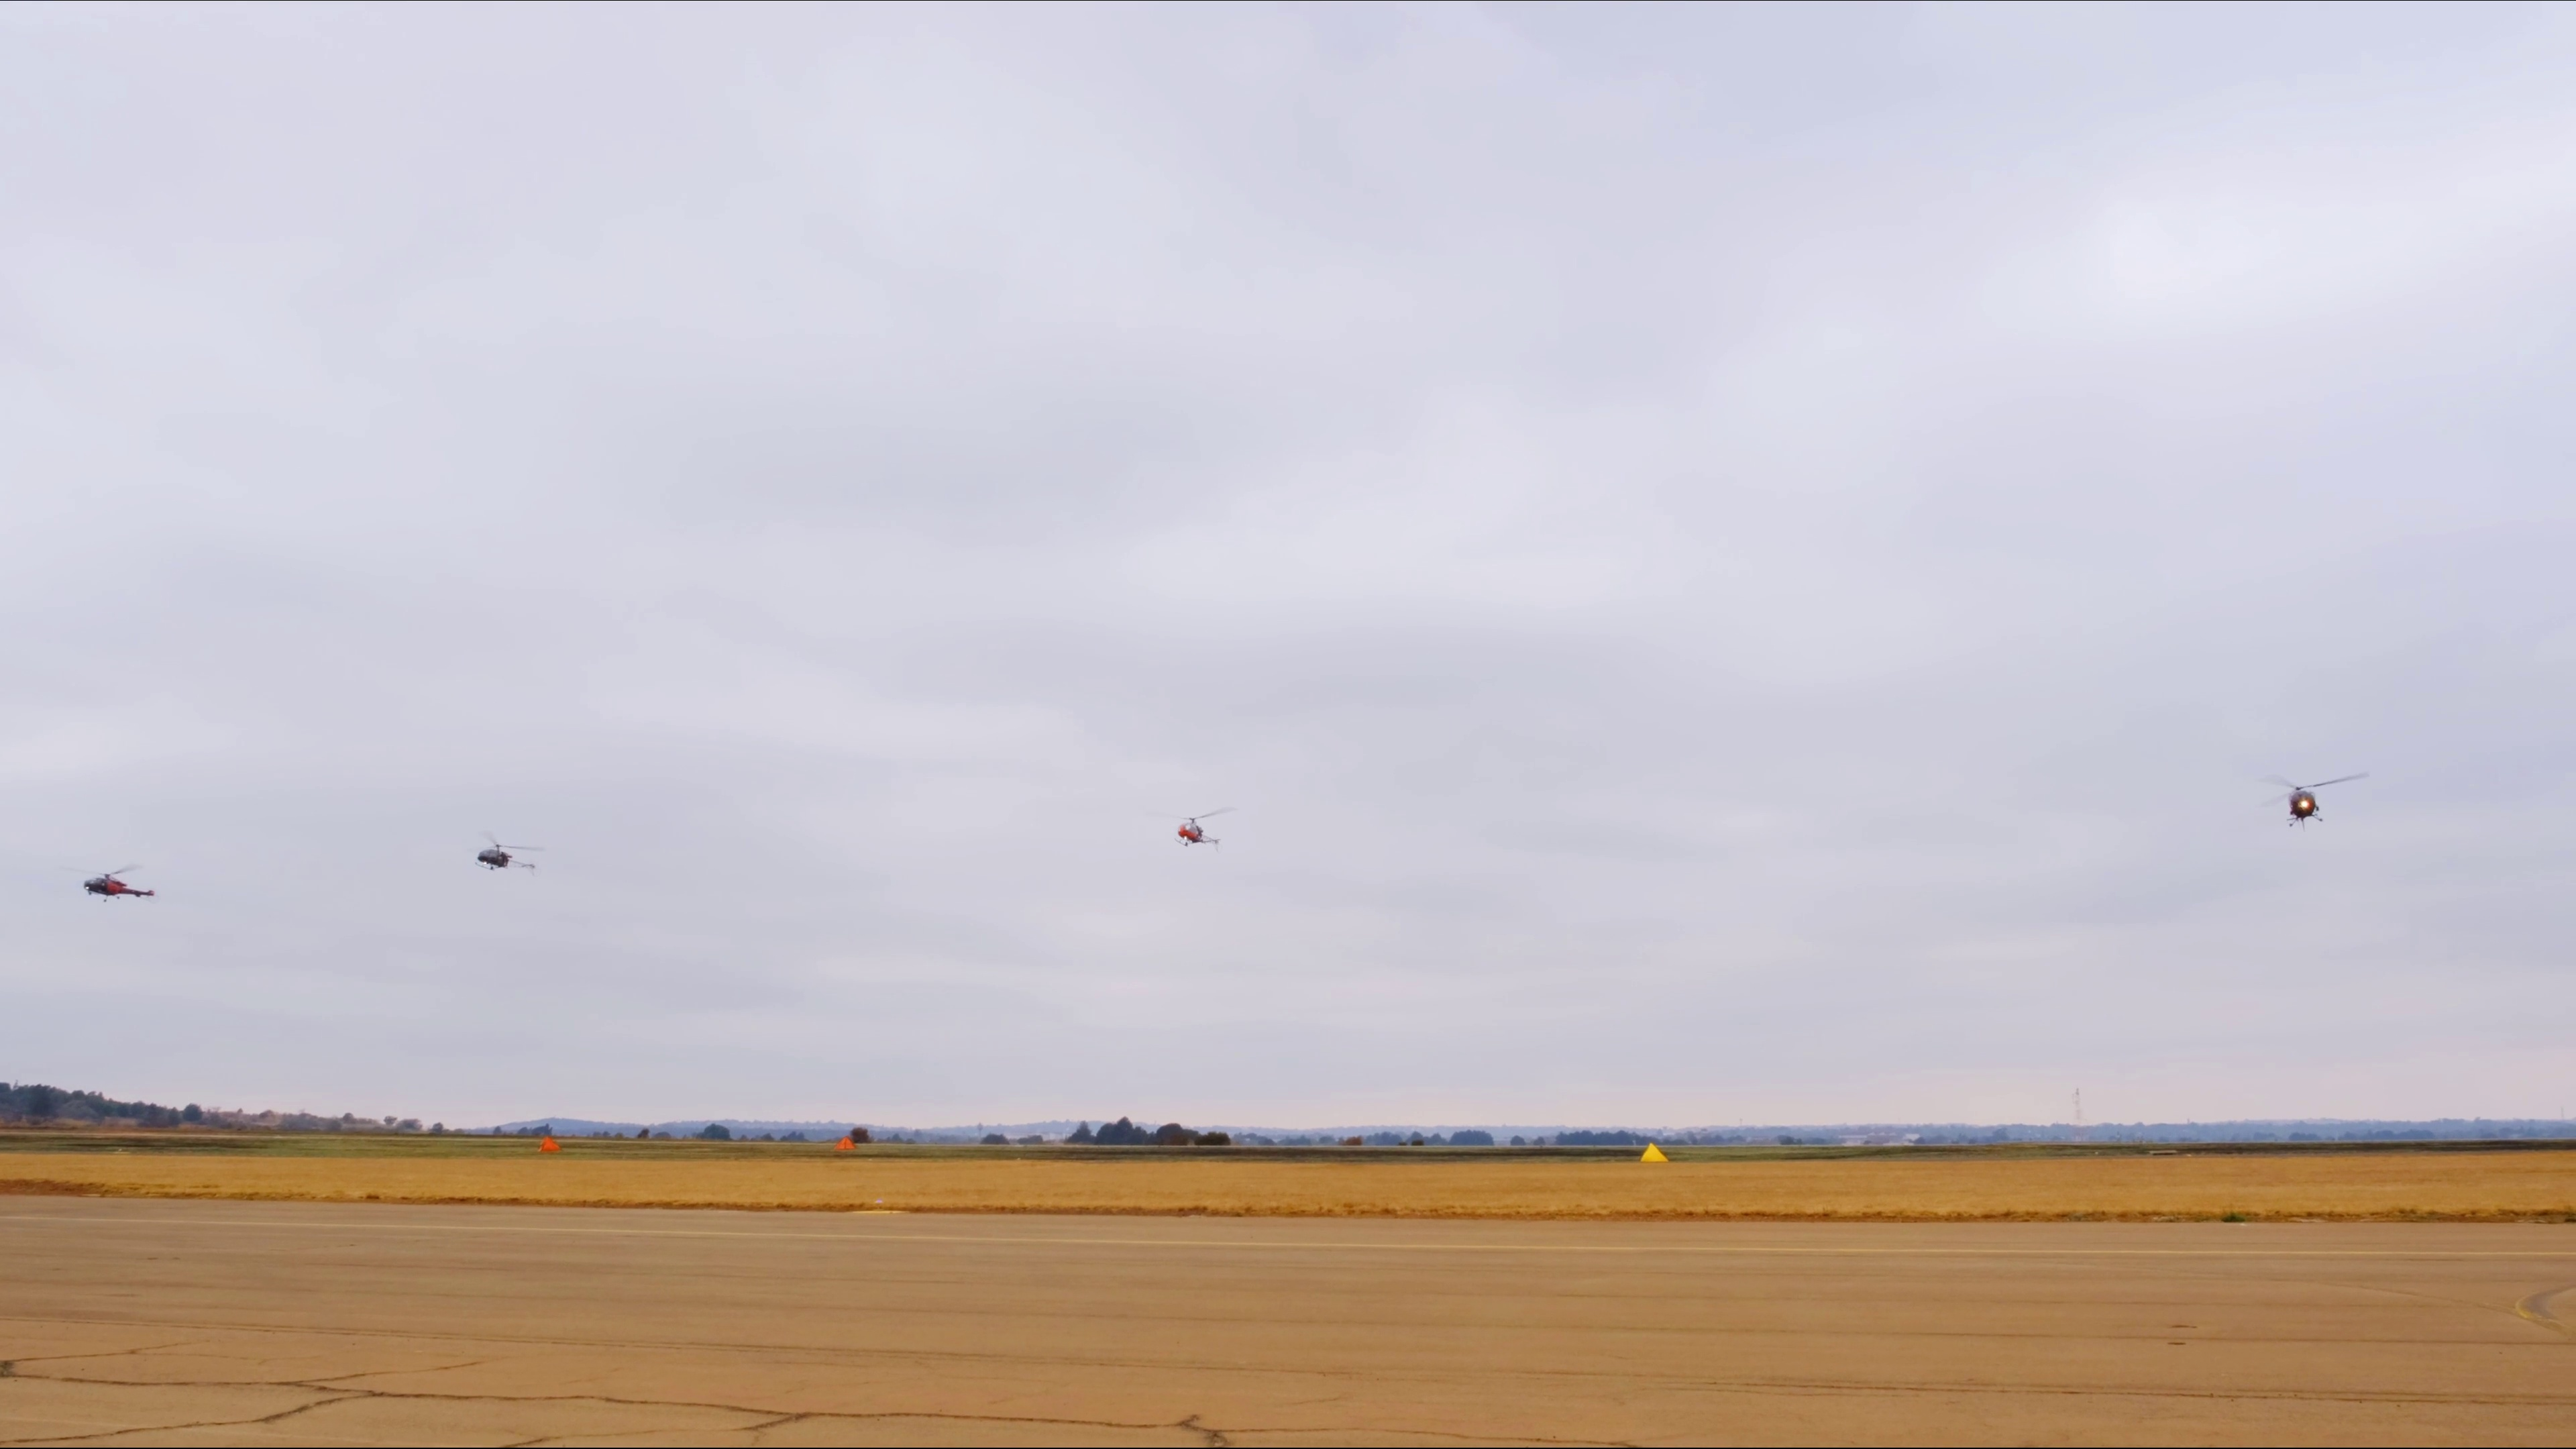heli: (2261, 775, 2362, 828), (469, 835, 545, 878), (81, 865, 156, 908), (1173, 809, 1231, 849)
